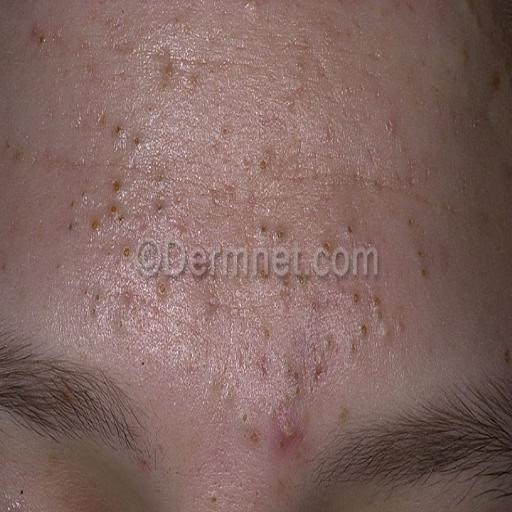Skin_Lesion: (251, 265, 299, 304), (278, 412, 308, 456), (240, 400, 262, 454), (370, 297, 394, 340), (319, 233, 340, 278), (149, 272, 174, 308), (254, 222, 289, 246), (285, 358, 303, 403), (466, 0, 487, 36), (214, 370, 234, 406), (208, 290, 228, 326), (258, 347, 278, 381), (414, 248, 432, 284), (186, 338, 206, 370), (194, 258, 217, 284), (173, 13, 195, 40), (202, 180, 220, 212), (133, 208, 154, 235), (81, 288, 101, 316), (308, 359, 328, 385), (156, 60, 178, 83), (9, 140, 27, 167), (27, 20, 48, 43), (301, 269, 316, 300), (188, 64, 204, 92), (118, 282, 134, 310), (234, 348, 250, 376), (242, 190, 258, 217), (491, 66, 503, 99), (105, 176, 124, 196), (355, 320, 369, 346), (405, 204, 418, 232), (152, 161, 166, 187), (107, 120, 123, 142), (259, 150, 271, 178), (117, 240, 132, 262), (338, 401, 352, 424), (347, 162, 361, 185), (209, 486, 221, 512), (174, 220, 188, 242), (62, 195, 78, 214), (69, 153, 83, 173), (154, 196, 166, 219), (294, 61, 307, 82), (79, 188, 93, 206), (216, 59, 229, 78), (405, 167, 417, 187), (130, 131, 141, 152), (107, 16, 122, 31), (87, 222, 103, 236), (369, 175, 383, 191), (65, 218, 78, 234), (345, 217, 355, 236), (261, 324, 271, 343), (350, 290, 360, 308), (395, 324, 407, 339), (219, 120, 227, 142), (2, 251, 8, 280), (284, 94, 297, 106), (382, 118, 394, 129), (108, 204, 118, 216)
